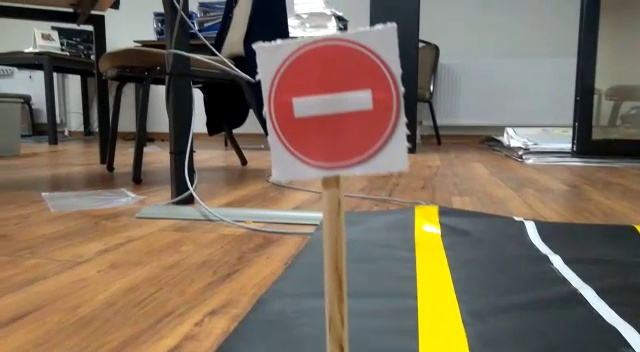girisi_olmayan_yol: (260, 40, 402, 175)
